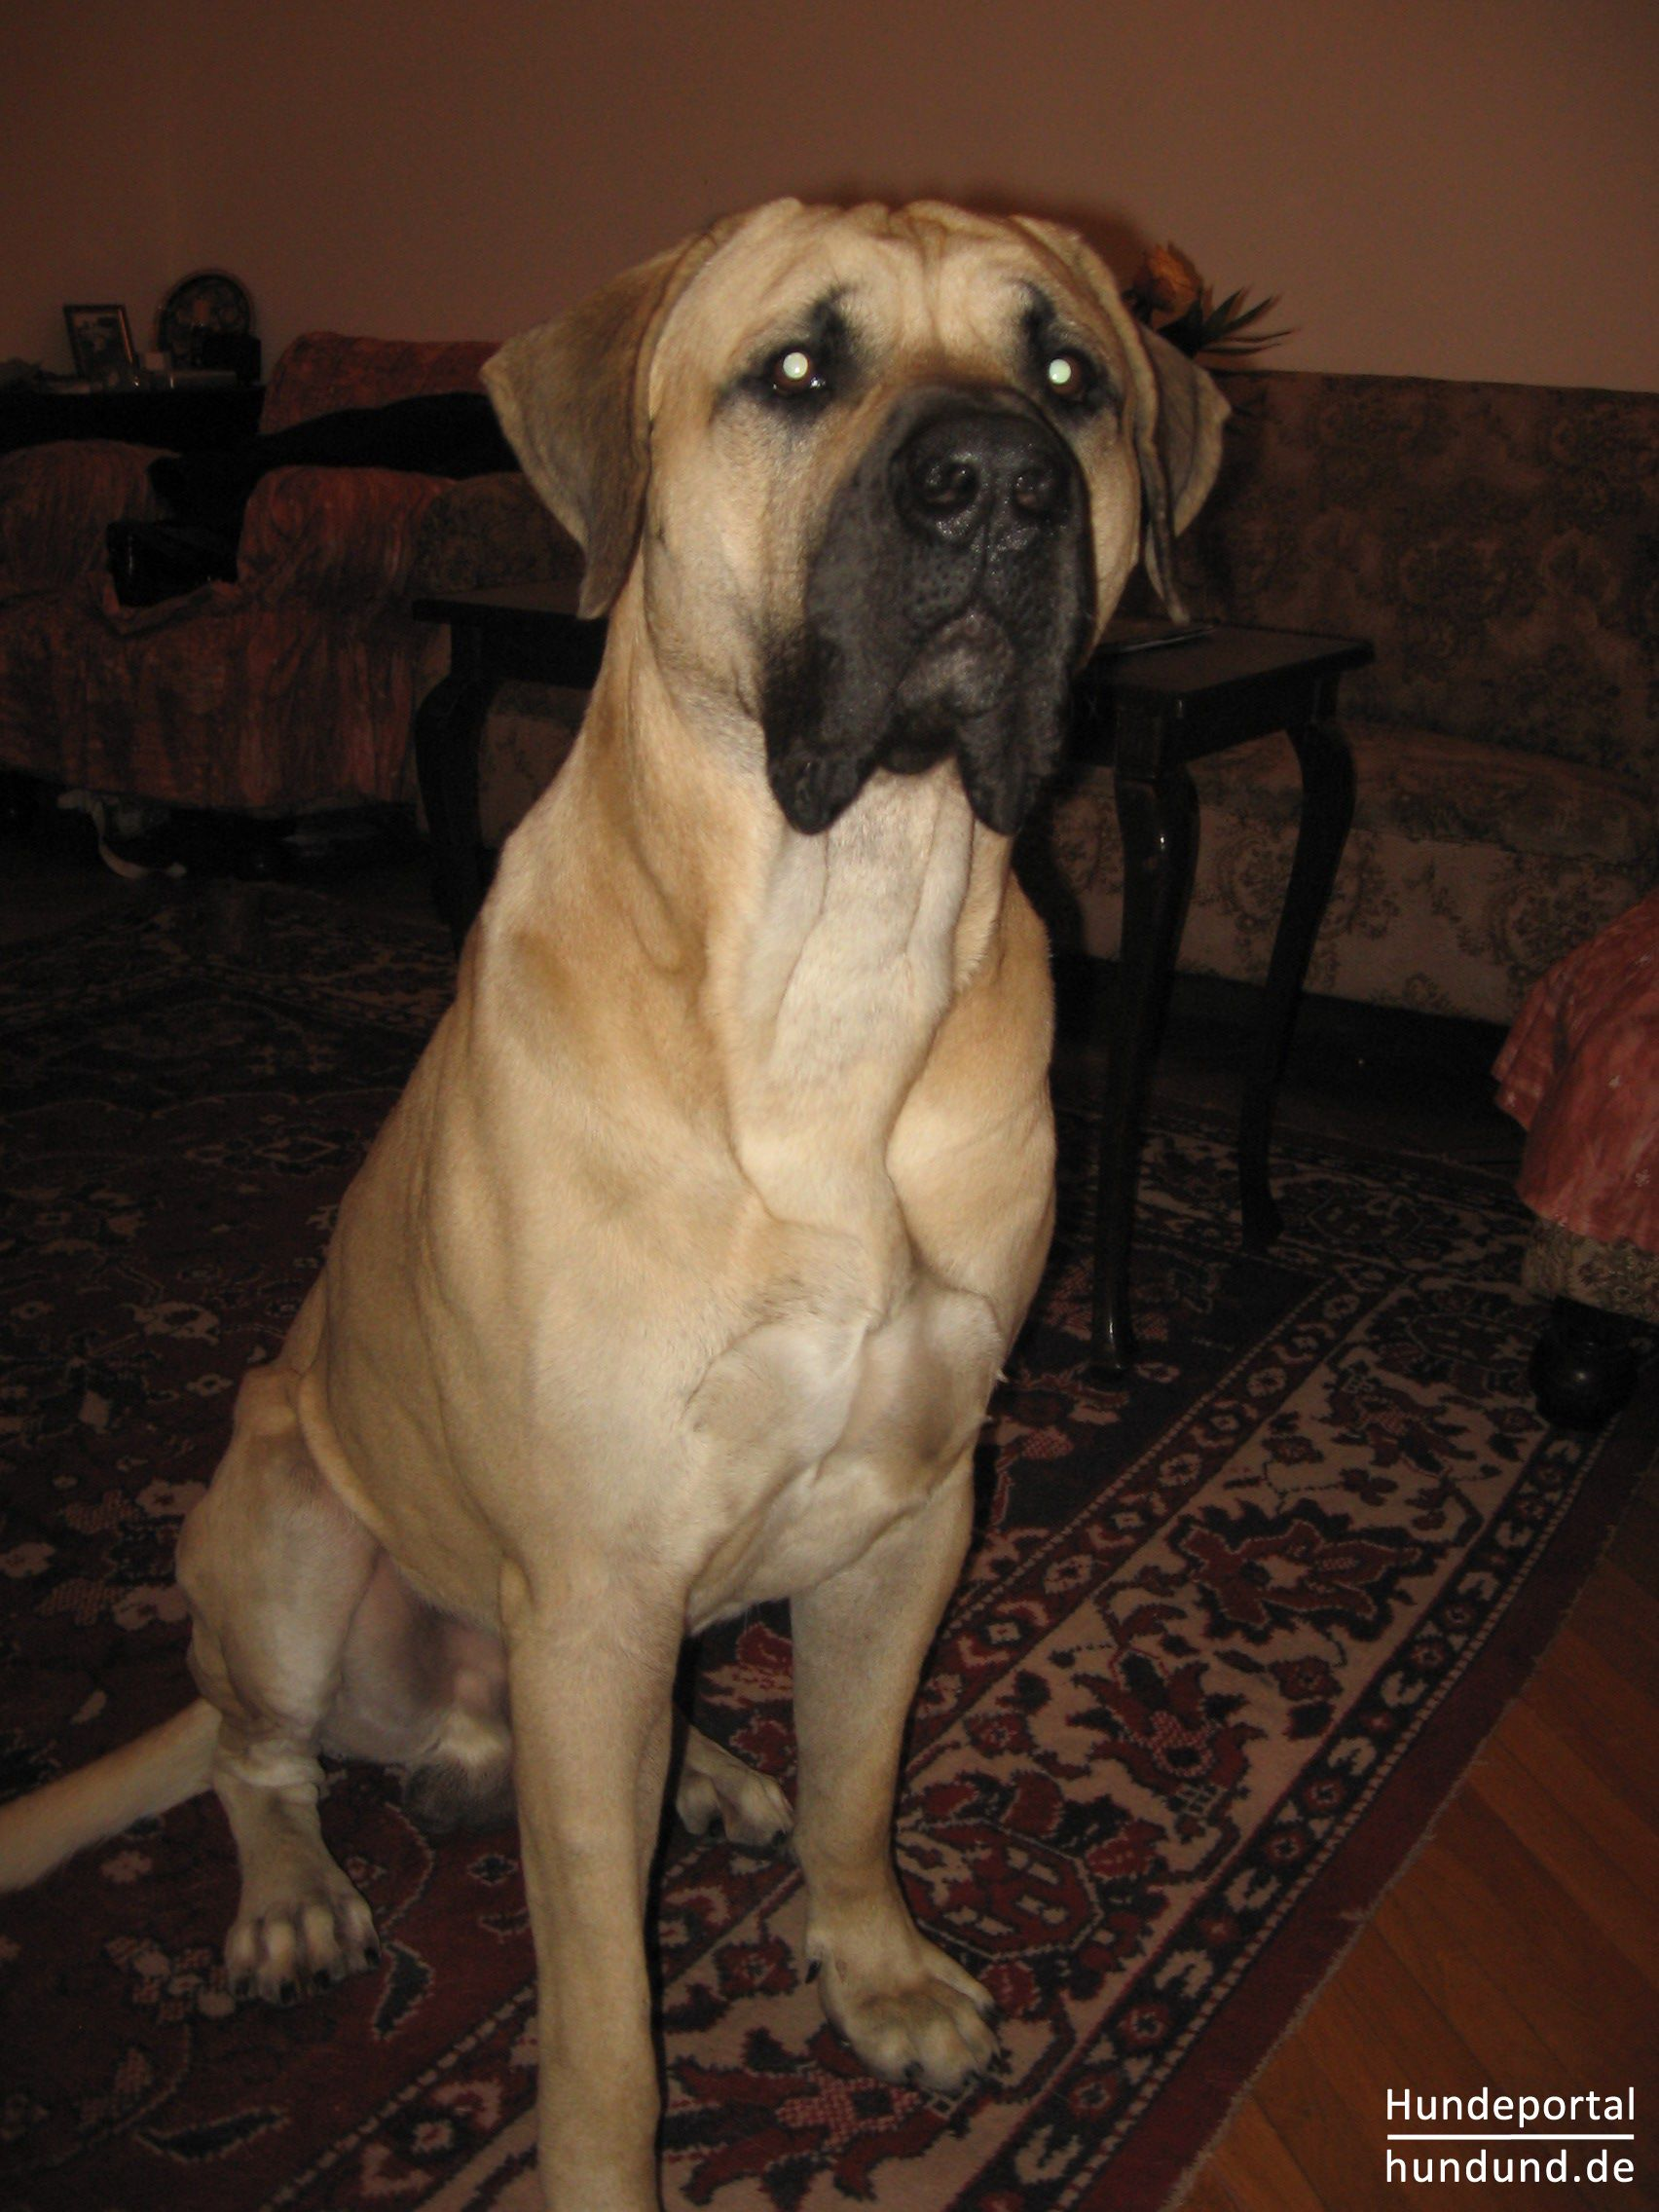tosa_inu: (0, 193, 1234, 2212)
